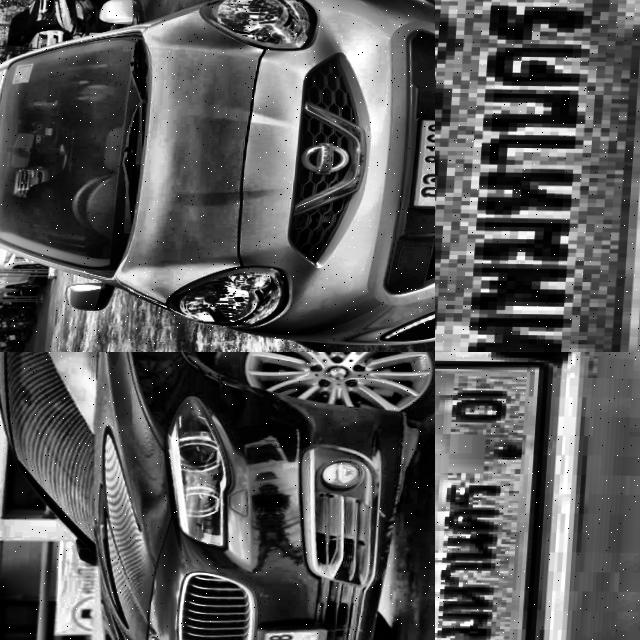license-plate: (435, 0, 640, 352), (435, 352, 548, 640), (409, 115, 435, 207), (255, 619, 345, 640)
